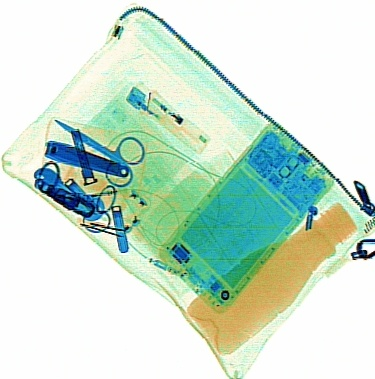lighter: (125, 83, 211, 154)
scissors: (53, 118, 144, 186)
